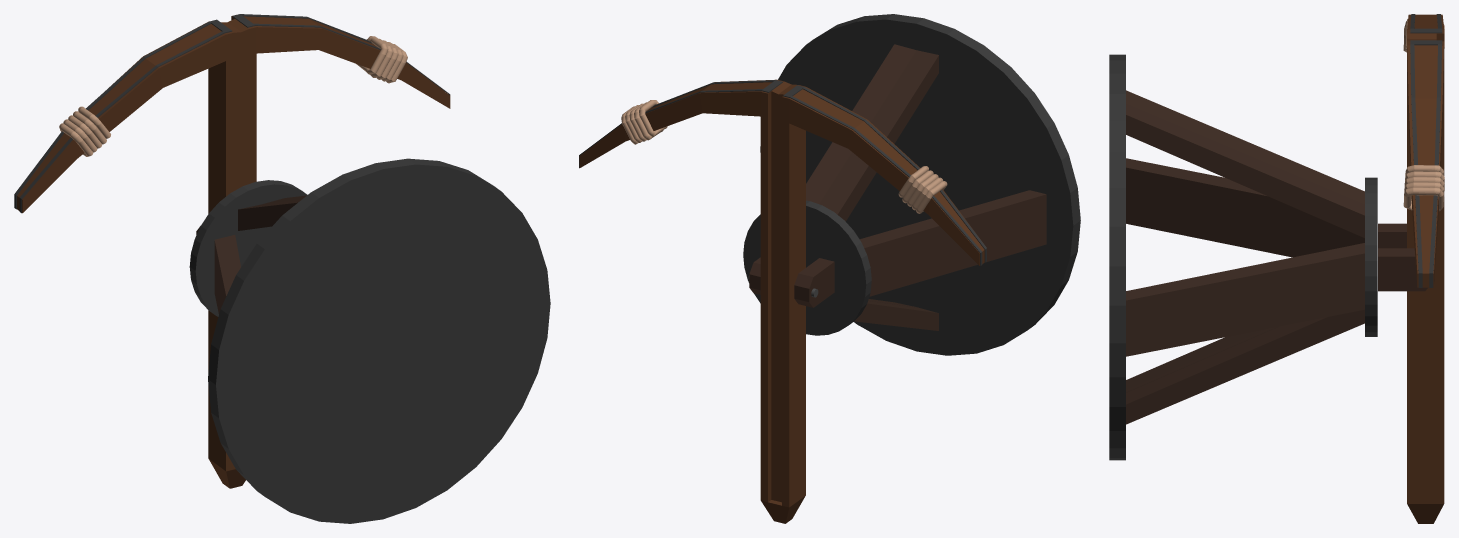
Rendered from Tower_Crossbow_Fixed 1.fbx.
The picture shows the model from 3 angles, left to right: view 1: azimuth 30°, elevation 25°; view 2: azimuth 150°, elevation 25°; view 3: azimuth 270°, elevation 25°; orthographic projection. The views are drawn at different scales.
Parts seen in each view (by area): view 1: Base, CrossBow; view 2: Base, CrossBow, Chasis; view 3: Base, CrossBow, Chasis.
Part boxes in pixels (box(x1,y1,x2,y2)): Base: box(189, 158, 550, 523); CrossBow: box(14, 14, 450, 488); Base: box(743, 14, 1080, 355); CrossBow: box(579, 79, 986, 523); Chasis: box(748, 257, 834, 307); Base: box(1109, 54, 1377, 460); CrossBow: box(1403, 14, 1444, 523); Chasis: box(1378, 223, 1434, 291).
Bounding box in the file's own units: 267 × 274 × 172.
